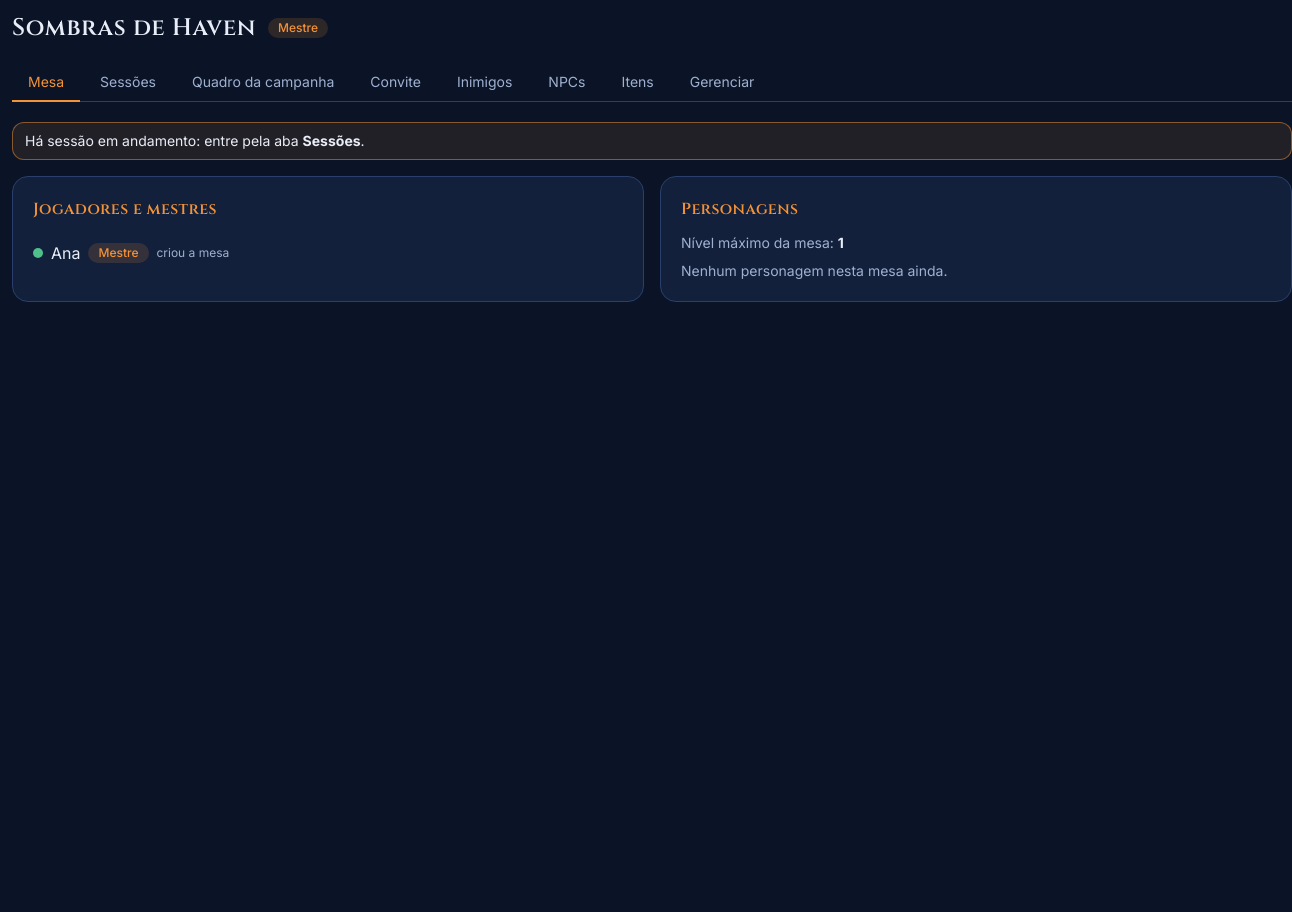
Test case: Página da mesa › a aba Mesa é só o resumo; permissões e administração ficam em Gerenciar, dos mestres
The width and height of the screenshot is (1292, 912).
Check: the heading "Jogadores e mestres" is shown, box [33,197,217,221]
Check: the text "O que os mestres podem fazer" is not shown
Click the tab "Gerenciar" at (722, 83), box [674,64,770,102]
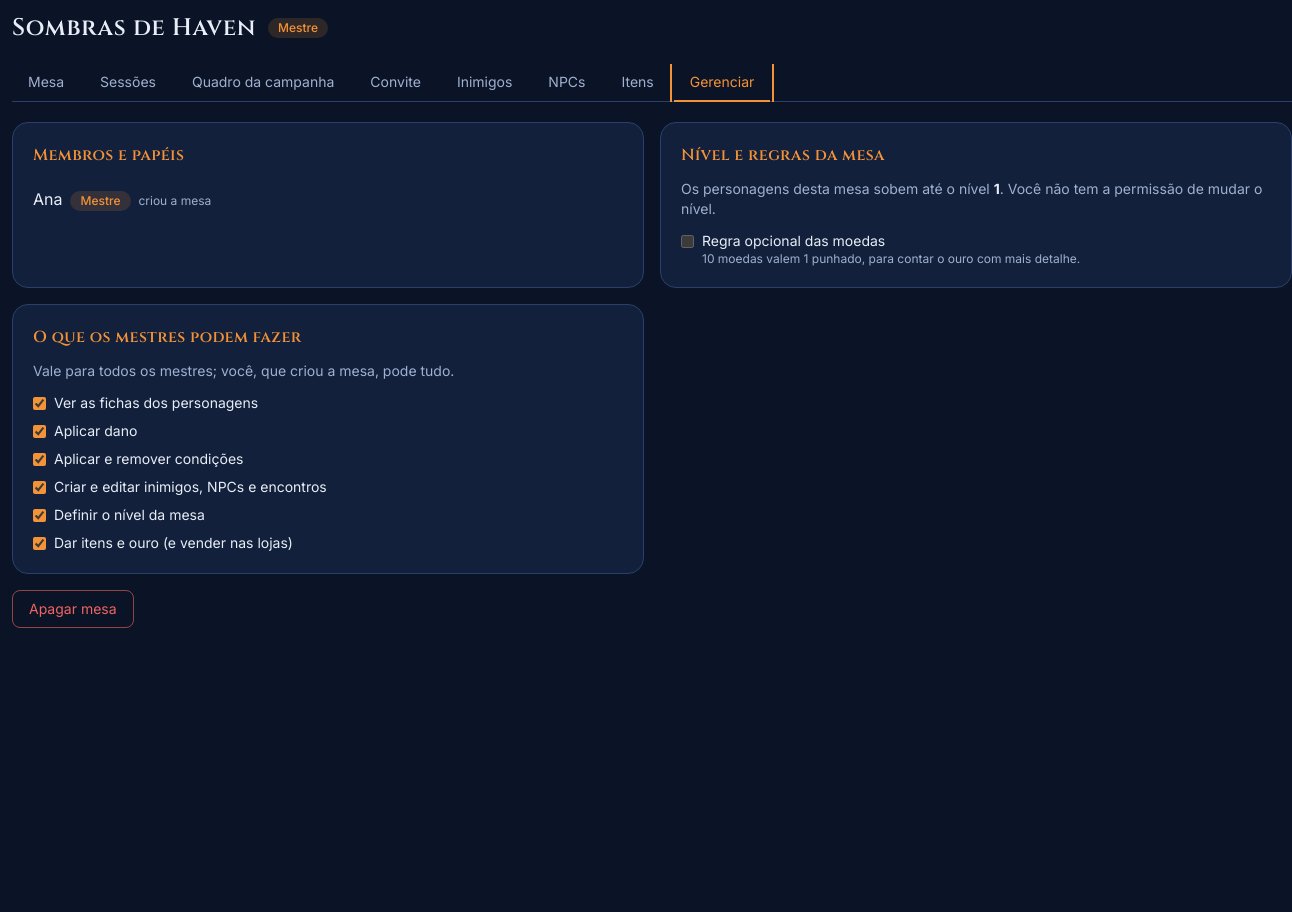
Check: the heading "O que os mestres podem fazer" is shown, box [33,325,302,349]
Check: the button "Apagar mesa" is shown, box [12,590,134,628]
